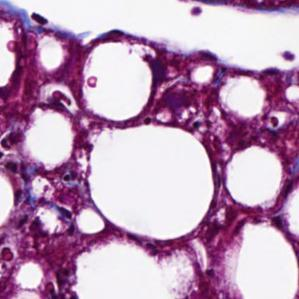inflammation: (9, 169, 76, 234), (35, 86, 77, 112)
